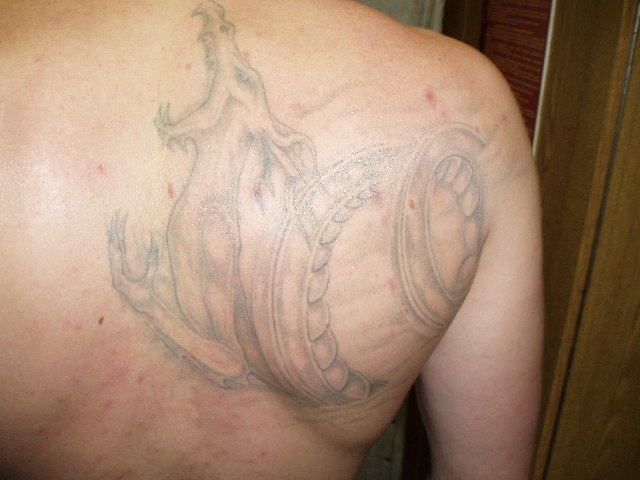tatu6_drakon: (88, 2, 478, 431)
